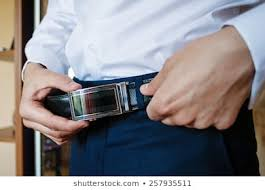F_belt: (33, 68, 181, 121)
